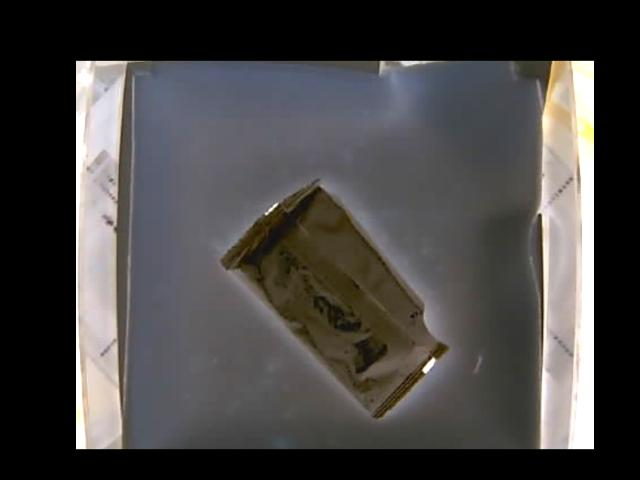Medicine: (224, 177, 449, 419)
